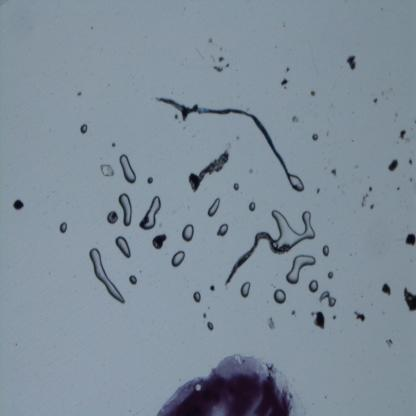Air bubble: (88, 247, 127, 307), (272, 209, 316, 248), (286, 252, 318, 284), (140, 194, 162, 232), (118, 152, 138, 186), (118, 192, 134, 227), (206, 196, 222, 218), (287, 174, 307, 191), (116, 236, 131, 258), (319, 290, 337, 308), (170, 250, 186, 269), (181, 223, 195, 243), (274, 288, 287, 307), (241, 282, 253, 300), (308, 278, 320, 294), (106, 210, 119, 224), (319, 242, 330, 258), (217, 223, 229, 237), (192, 291, 201, 305), (310, 130, 320, 142), (128, 274, 138, 284), (79, 123, 88, 134), (60, 222, 68, 234), (327, 271, 336, 281), (233, 182, 241, 193), (206, 322, 214, 331), (249, 202, 256, 212)
Background material: (401, 284, 416, 311), (208, 56, 230, 72), (97, 162, 116, 179), (313, 308, 325, 332), (153, 233, 168, 252), (345, 52, 357, 74), (404, 231, 416, 251), (381, 281, 392, 302), (351, 308, 366, 323), (397, 126, 411, 142), (387, 158, 400, 173), (265, 314, 275, 332), (11, 199, 25, 211), (383, 336, 394, 350), (362, 192, 370, 209), (290, 112, 299, 124), (280, 77, 288, 89), (208, 282, 215, 294), (314, 184, 322, 194), (291, 306, 297, 318), (372, 96, 379, 106), (111, 139, 117, 149), (330, 169, 336, 179), (408, 156, 414, 166), (146, 176, 153, 184), (284, 66, 291, 73), (369, 203, 375, 210), (77, 90, 82, 98), (310, 90, 315, 98), (368, 185, 372, 192), (208, 38, 213, 43), (396, 186, 400, 190)
Cellulose filter fibre: (224, 232, 289, 288), (188, 148, 230, 192)
Cotton: (154, 95, 290, 175)
Pen: (152, 350, 306, 416)
